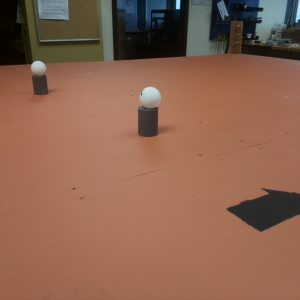corner: (229, 21, 243, 54)
obstacle: (136, 87, 162, 138), (30, 62, 51, 95)
start: (226, 183, 300, 233)
